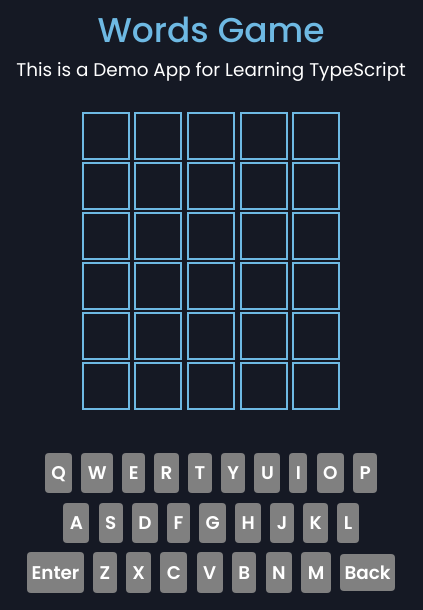
Test Interface › Should display letter after click key
Step 1. Click the text with test id "letter-A" → (76, 523), box [63,503,89,543]
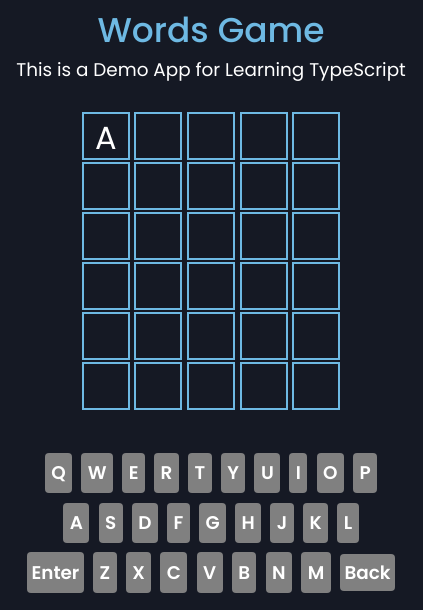
Expected: the 1st element showing "A" is shown, [61,112,361,412]
